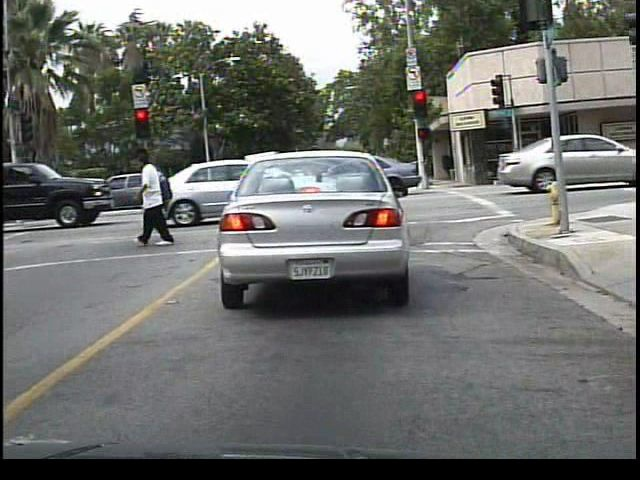person: (132, 150, 187, 250)
